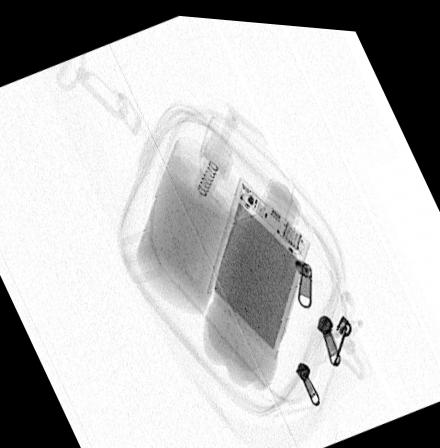Powerbank: (205, 173, 309, 354)
